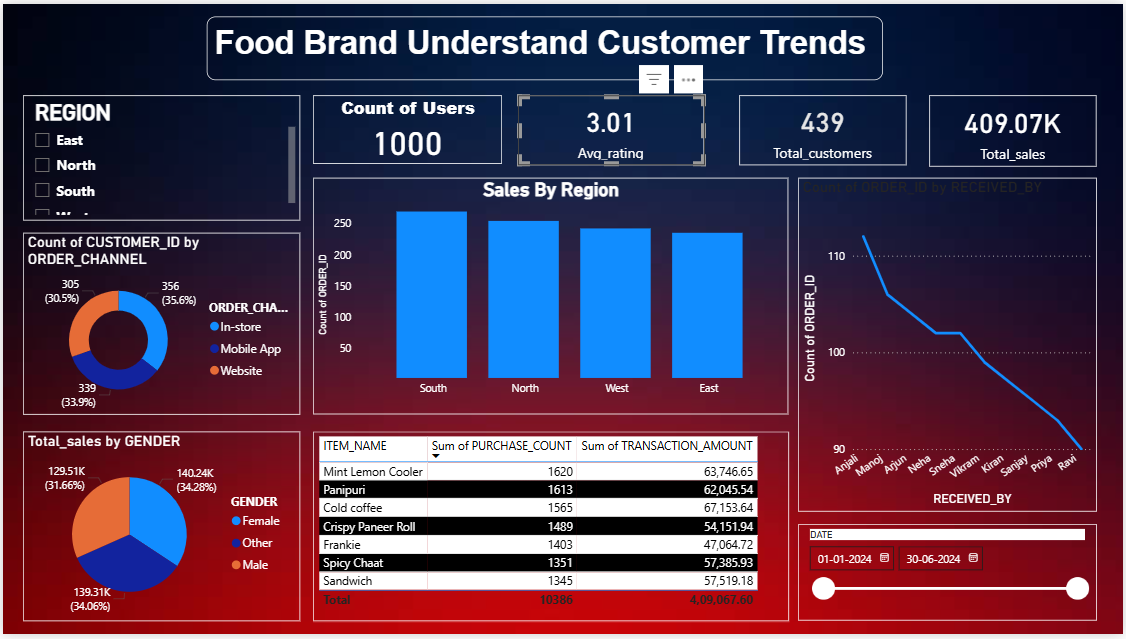

Layout of this report page (visuals, bound fields, positions):
{"tool":"powerbi","page":{"name":"milestone_1","canvas":[1280,720],"ordinal":0},"visuals":[{"type":"card","title":"Count of Users","fields":{"Values":["unique_balaji_dataset_final_(1).CUSTOMER_ID"]},"box":[354.3,104.3,215.7,78.6],"z":0},{"type":"slicer","fields":{"Values":["unique_balaji_dataset_final_(1).REGION"]},"box":[22.9,104.3,317.1,142.9],"z":1000},{"type":"donutChart","fields":{"Category":["unique_balaji_dataset_final_(1).ORDER_CHANNEL"],"Y":["unique_balaji_dataset_final_(1).CUSTOMER_ID"]},"box":[23.4,261,316.9,207.8],"z":2000},{"type":"card","fields":{"Values":["unique_balaji_dataset_final_(1).Avg_rating"]},"box":[588.6,104.3,212.9,80],"z":3000},{"type":"card","fields":{"Values":["unique_balaji_dataset_final_(1).Total_sales"]},"box":[1058.6,104.3,191.4,81.4],"z":4000},{"type":"card","fields":{"Values":["unique_balaji_dataset_final_(1).Total_customers"]},"box":[841.4,104.3,191.4,80],"z":5000},{"type":"columnChart","title":"Sales By Region","fields":{"Category":["unique_balaji_dataset_final_(1).REGION"],"Y":["unique_balaji_dataset_final_(1).ORDER_ID"]},"box":[354.3,198.6,542.9,270],"z":6000},{"type":"textbox","box":[232.9,14.3,772.9,72.9],"z":7000},{"type":"lineChart","fields":{"Category":["unique_balaji_dataset_final_(1).RECEIVED_BY"],"Y":["unique_balaji_dataset_final_(1).ORDER_ID"]},"box":[908.6,198.6,341.4,381.4],"z":8000},{"type":"tableEx","fields":{"Values":["unique_balaji_dataset_final_(1).ITEM_NAME","unique_balaji_dataset_final_(1).PURCHASE_COUNT","unique_balaji_dataset_final_(1).TRANSACTION_AMOUNT"]},"box":[354.5,488.3,544.2,216.9],"z":9000},{"type":"pieChart","fields":{"Y":["unique_balaji_dataset_final_(1).Total_sales"],"Category":["unique_balaji_dataset_final_(1).GENDER"]},"box":[23,488,317,217],"z":10000},{"type":"slicer","fields":{"Values":["unique_balaji_dataset_final_(1).DATE"]},"box":[909.1,594.8,341.6,110.4],"z":11000}]}

Visuals, with their boxes in screenshot pixels (x1, y1, x2, y2), scaled from the page's 1280x720 canvas onto the 1126x639 screenshot:
"Count of Users" card: 312, 93, 501, 162
slicer - unique_balaji_dataset_final_(1).REGION: 20, 93, 299, 219
donutChart - unique_balaji_dataset_final_(1).ORDER_CHANNEL x unique_balaji_dataset_final_(1).CUSTOMER_ID: 21, 232, 299, 416
card - unique_balaji_dataset_final_(1).Avg_rating: 518, 93, 705, 164
card - unique_balaji_dataset_final_(1).Total_sales: 931, 93, 1100, 165
card - unique_balaji_dataset_final_(1).Total_customers: 740, 93, 909, 164
"Sales By Region" columnChart: 312, 176, 789, 416
textbox: 205, 13, 885, 77
lineChart - unique_balaji_dataset_final_(1).RECEIVED_BY x unique_balaji_dataset_final_(1).ORDER_ID: 799, 176, 1100, 515
tableEx - unique_balaji_dataset_final_(1).ITEM_NAME x unique_balaji_dataset_final_(1).PURCHASE_COUNT: 312, 433, 791, 626
pieChart - unique_balaji_dataset_final_(1).Total_sales x unique_balaji_dataset_final_(1).GENDER: 20, 433, 299, 626
slicer - unique_balaji_dataset_final_(1).DATE: 800, 528, 1100, 626
